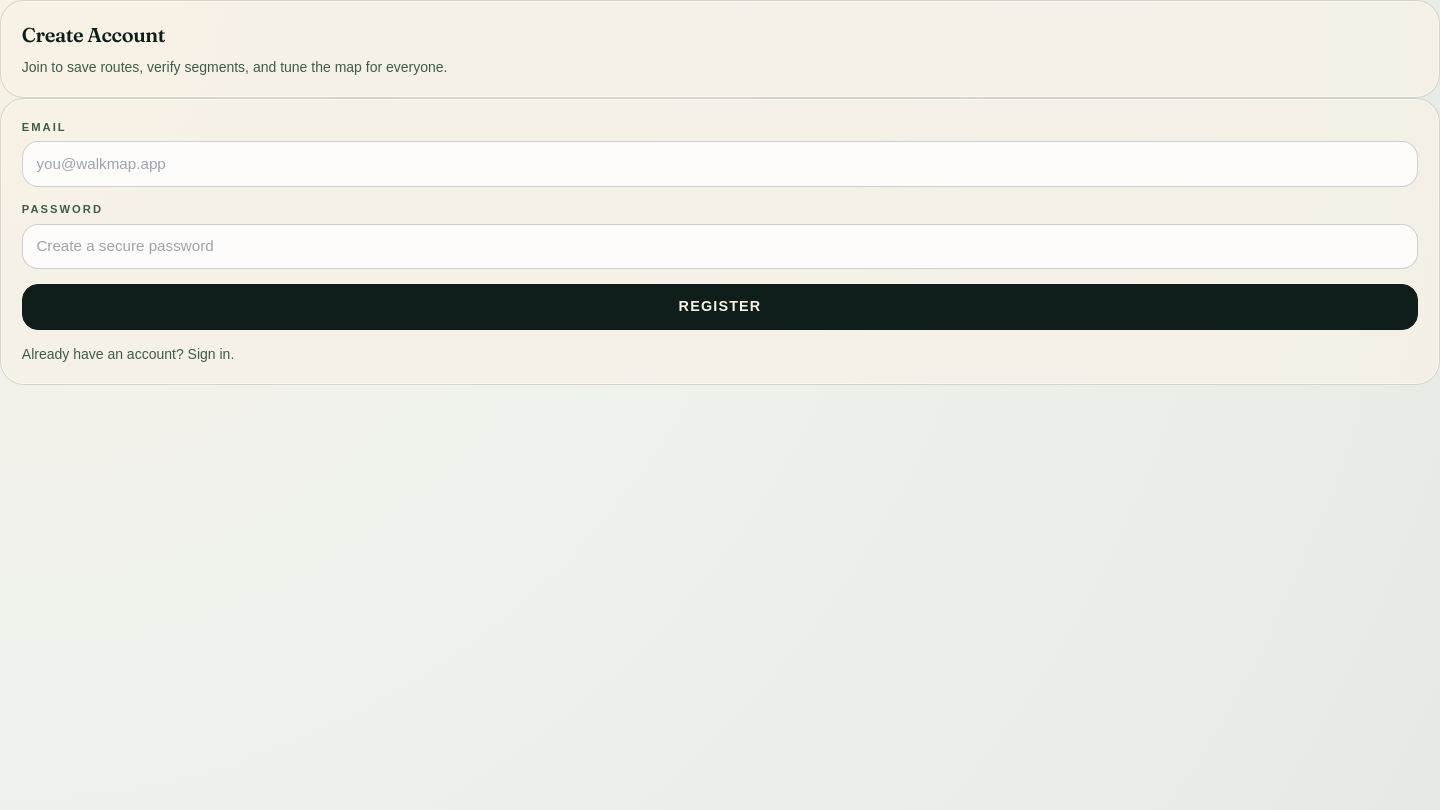
Test: auth panels › shows email validation before register submit
Type "not-an-email" into the field labelled "Email" at (720, 164), box [22,141,1418,187]
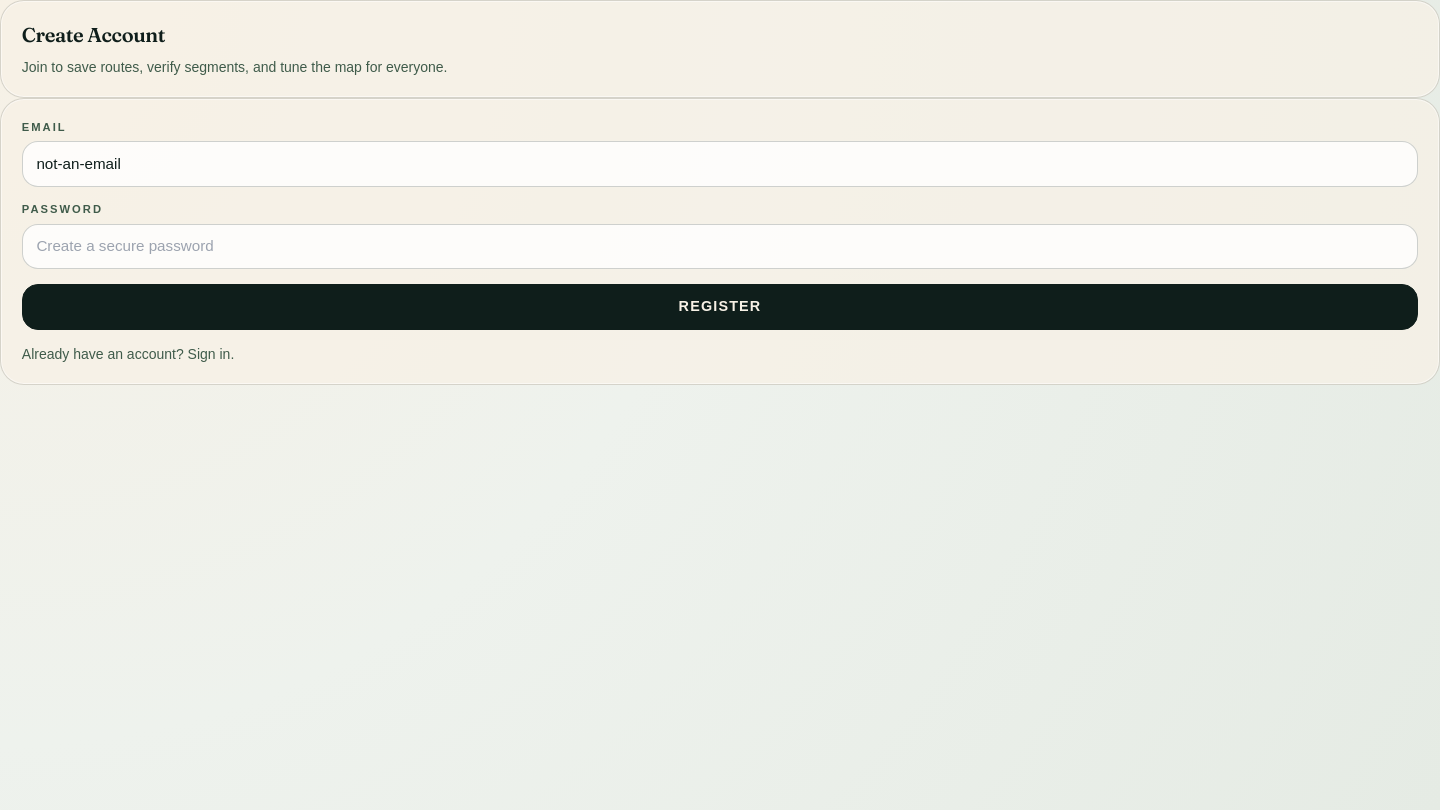
Type "password123" into the password field labelled "Password" at (720, 246), box [22,224,1418,269]
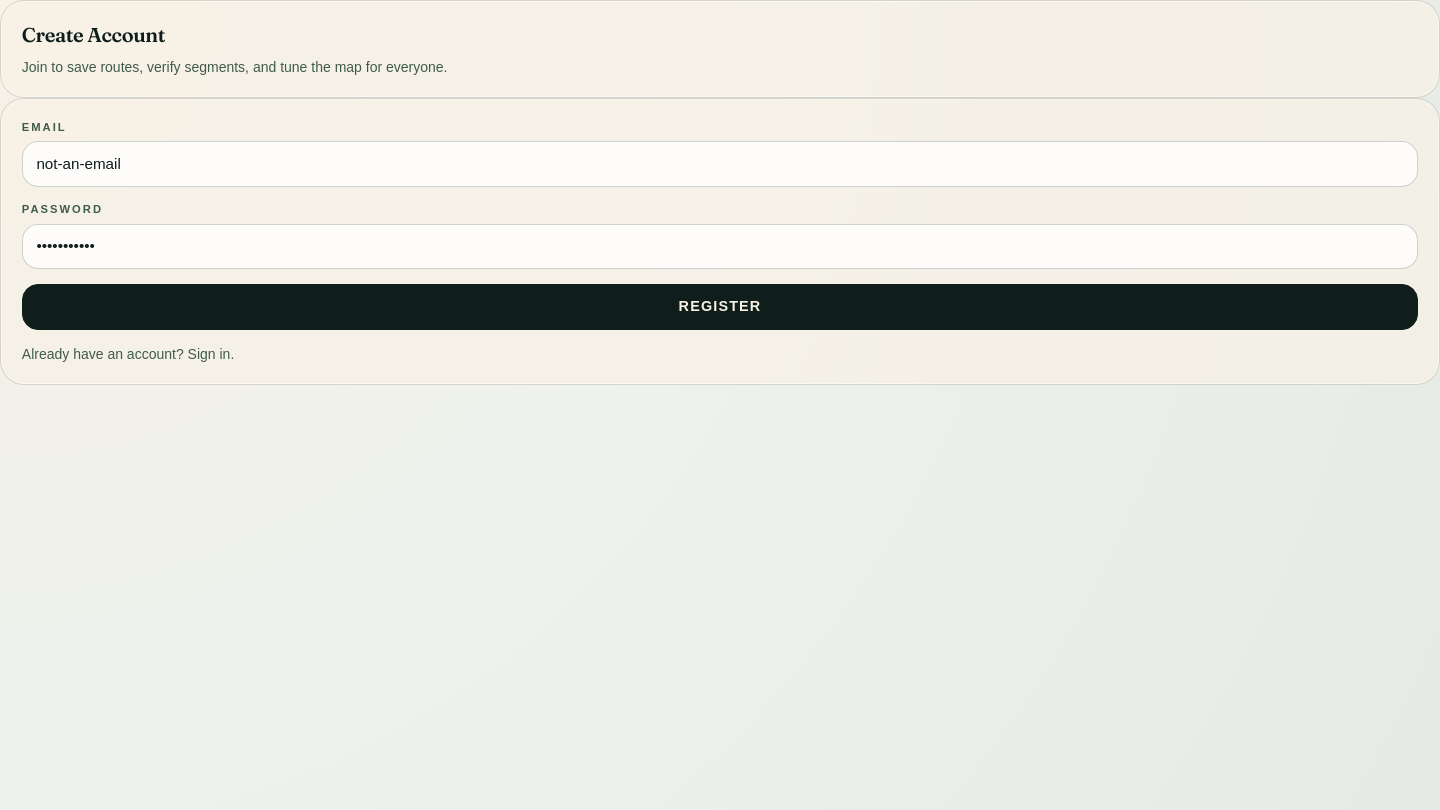
Click the button "Register" at (720, 307), box [22,284,1418,330]
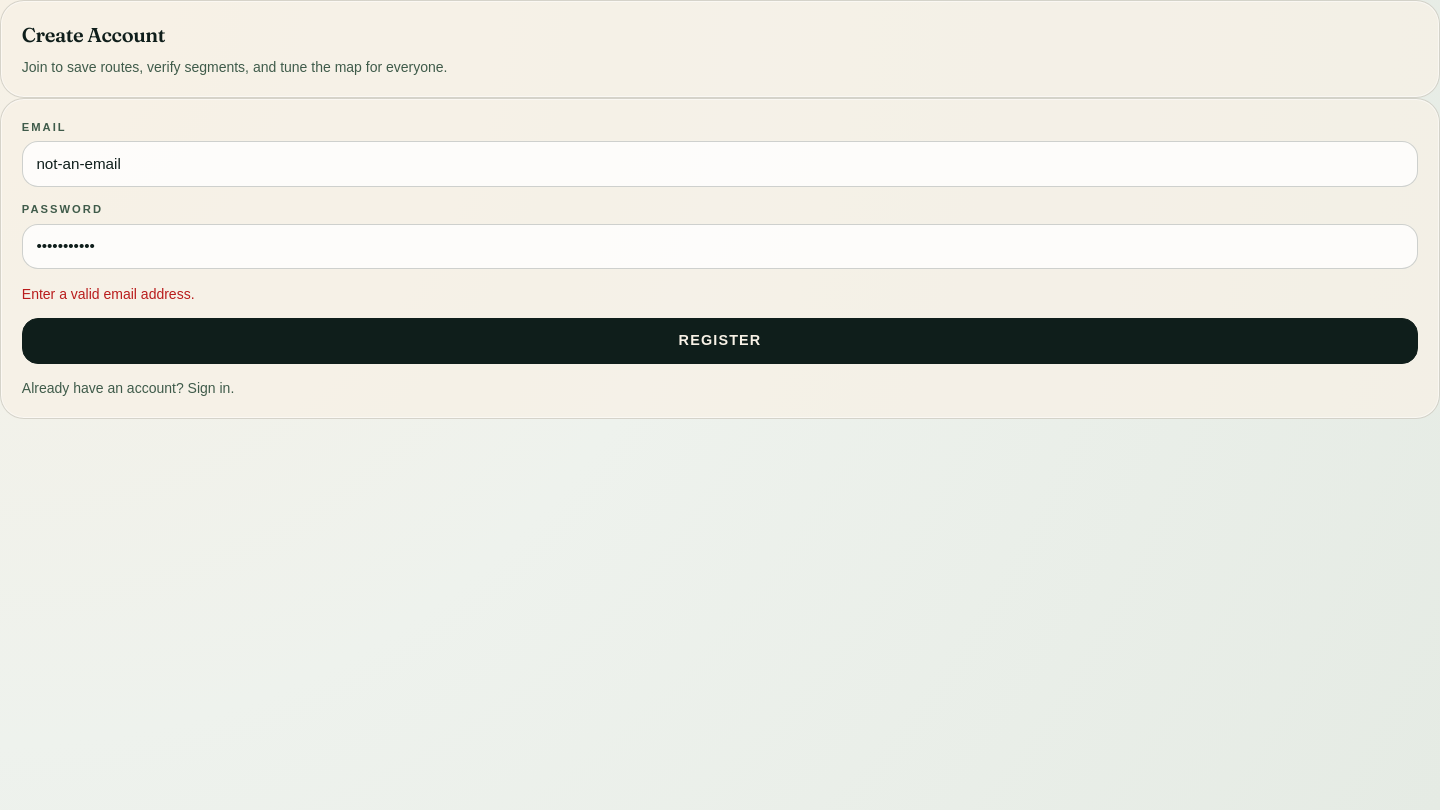
Expected: the message shows "valid email", [22,286,195,302]
